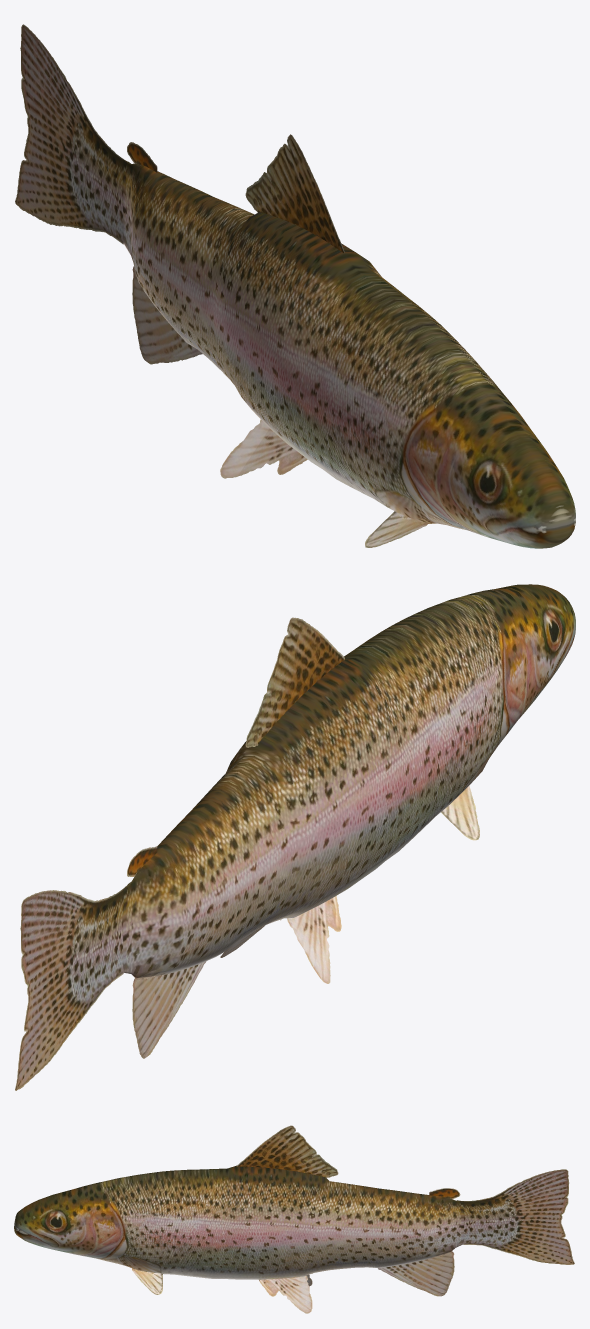
The model's file is trout_rainbow.glb.
The picture shows the model from 3 angles, top to bottom: view 1: azimuth 30°, elevation 25°; view 2: azimuth 150°, elevation 25°; view 3: azimuth 270°, elevation 25°; orthographic projection. The views are drawn at different scales.
Parts seen in each view (by area): view 1: Trout_Rainbow; view 2: Trout_Rainbow; view 3: Trout_Rainbow.
Boxes of the visible parts, x1,y1,x2,y2 form: Trout_Rainbow: (15, 24, 575, 548); Trout_Rainbow: (15, 584, 575, 1090); Trout_Rainbow: (14, 1125, 574, 1313).
Bounding box in the file's own units: 0.0493 × 0.1396 × 0.4012.
Materials: 2 (2 with a texture image).
